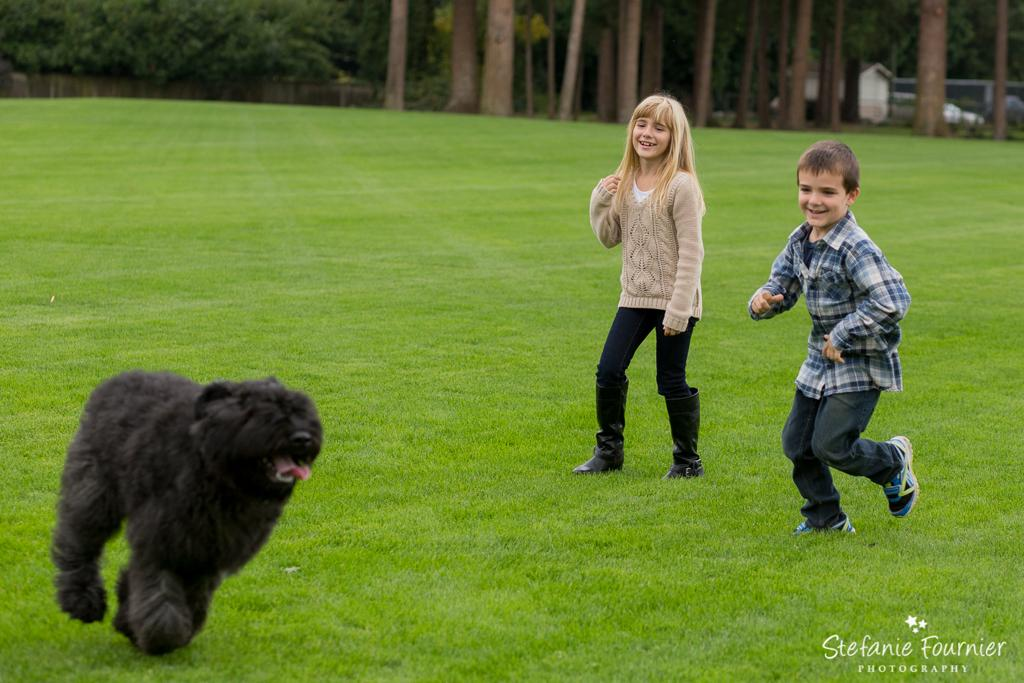face: (797, 164, 846, 226), (632, 107, 672, 158)
